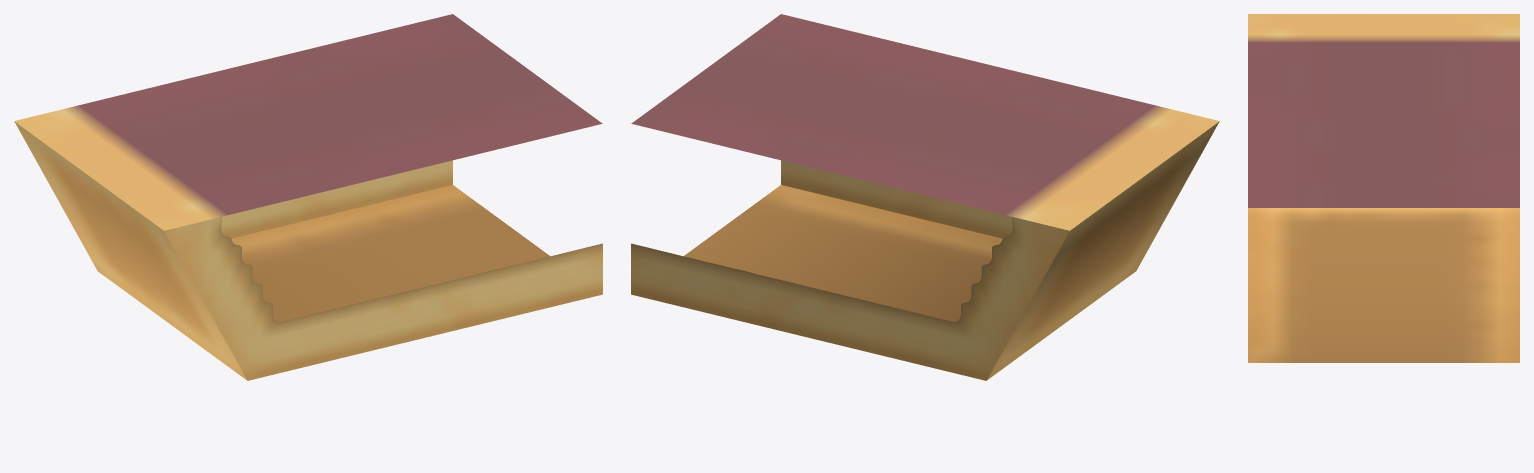
The model's file is mod_zlc_jianzhu053_4_xy.FBX.
3 renders of one model, left to right at view 1: azimuth 30°, elevation 25°; view 2: azimuth 150°, elevation 25°; view 3: azimuth 270°, elevation 25°, orthographic. The views are drawn at different scales.
Visible parts, largest first — view 1: mod_zlc_jianzhu053_4_xy; view 2: mod_zlc_jianzhu053_4_xy; view 3: mod_zlc_jianzhu053_4_xy.
Boxes of the visible parts, <box> form: mod_zlc_jianzhu053_4_xy: <box>14,14,602,380</box>; mod_zlc_jianzhu053_4_xy: <box>631,14,1219,380</box>; mod_zlc_jianzhu053_4_xy: <box>1248,14,1519,362</box>.
Size of the model in its own units: 1.06 by 0.6414 by 0.6298.
Materials: 1 (1 with a texture image).
